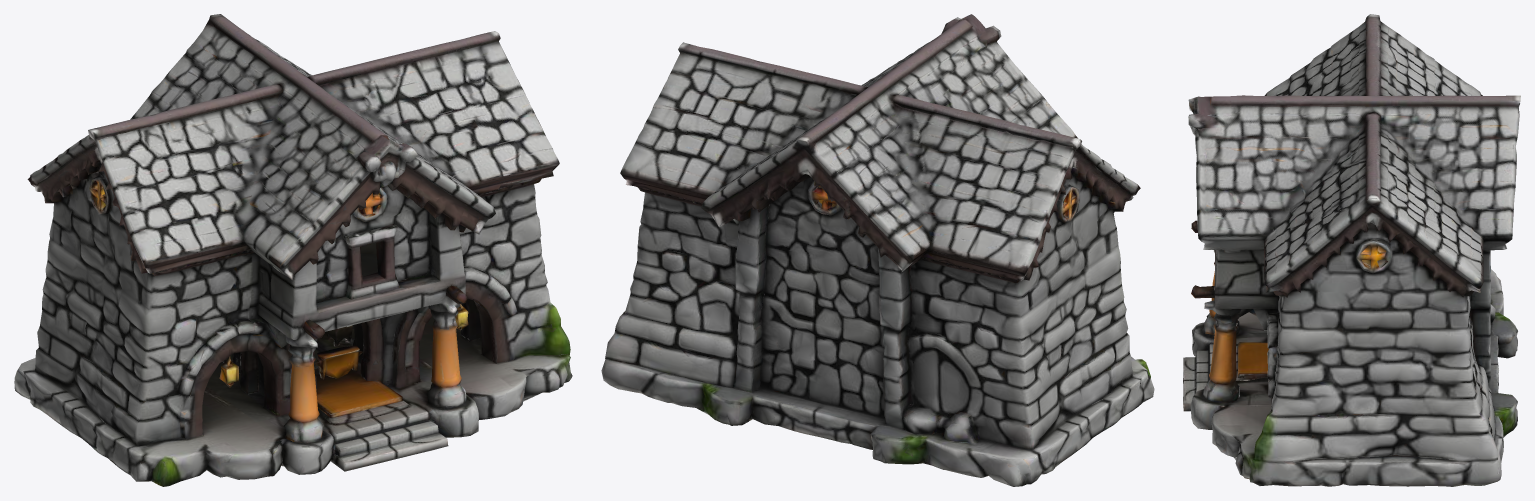
Rendered from Dwarven building #10_final.glb.
The picture shows the model from 3 angles, left to right: view 1: azimuth 30°, elevation 25°; view 2: azimuth 150°, elevation 25°; view 3: azimuth 270°, elevation 25°; orthographic projection. The views are drawn at different scales.
Size of the model in its own units: 1.91 by 1.31 by 1.38.
Materials: 1 (1 with a texture image).
